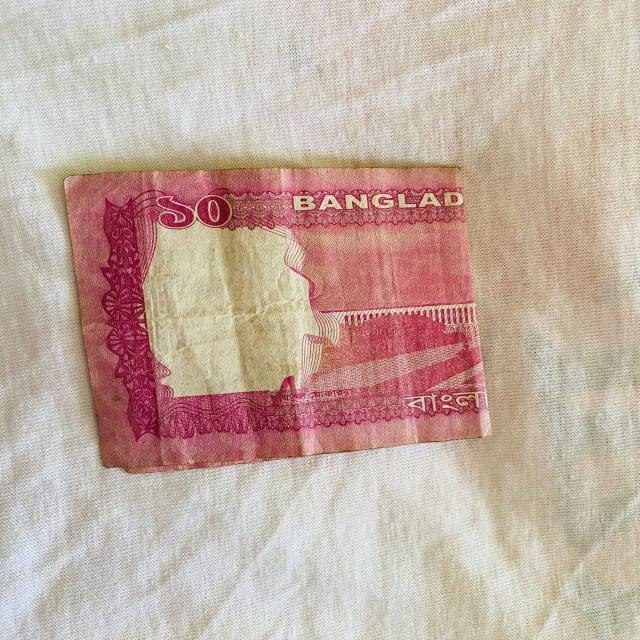Taka: (50, 163, 498, 469)
